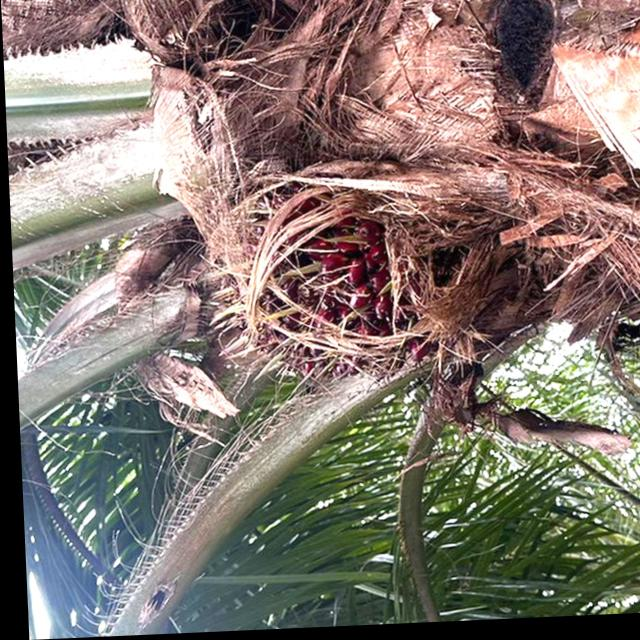ripe: (187, 183, 430, 408)
